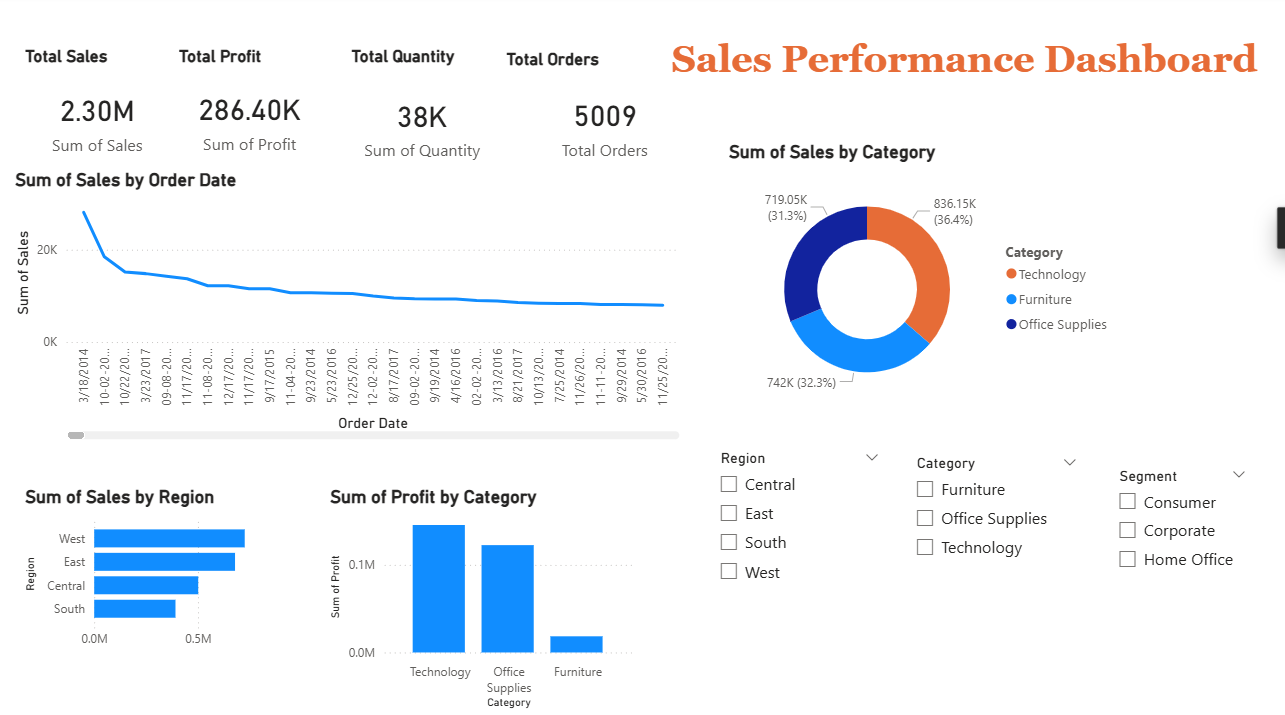

The dashboard page shown, as its layout file describes it:
{"tool":"powerbi","page":{"name":"Page 1","canvas":[1280,720],"ordinal":0},"visuals":[{"type":"card","title":"Total Sales","fields":{"Values":["Sum(Sample - Superstore.Sales)"]},"box":[20.6,50.8,153.7,127.6],"z":0},{"type":"card","title":"Total Orders","fields":{"Values":["Sample - Superstore.Total Orders"]},"box":[499.5,53.5,205.8,133.1],"z":1000},{"type":"lineChart","fields":{"Category":["Sample - Superstore.Order Date"],"Y":["Sum(Sample - Superstore.Sales)"]},"box":[11,172.9,671,274.4],"z":2000},{"type":"clusteredBarChart","fields":{"Category":["Sample - Superstore.Region"],"Y":["Sum(Sample - Superstore.Sales)"]},"box":[20.6,488.5,258,170.2],"z":3000},{"type":"donutChart","fields":{"Category":["Sample - Superstore.Category"],"Y":["Sum(Sample - Superstore.Sales)"]},"box":[721.8,145.5,395.2,274.4],"z":4000},{"type":"clusteredColumnChart","fields":{"Category":["Sample - Superstore.Category"],"Y":["Sum(Sample - Superstore.Profit)"]},"box":[325.2,488.5,311.5,226.4],"z":5000},{"type":"slicer","fields":{"Values":["Sample - Superstore.Region"]},"box":[705.3,447.3,182.5,155.1],"z":6000},{"type":"slicer","fields":{"Values":["Sample - Superstore.Category"]},"box":[900.2,452.8,183.9,149.6],"z":7000},{"type":"slicer","fields":{"Values":["Sample - Superstore.Segment"]},"box":[1101.9,465.2,150.9,124.9],"z":8000},{"type":"card","title":"Total Profit","fields":{"Values":["Sum(Sample - Superstore.Profit)"]},"box":[174.3,50.8,150.9,126.2],"z":9000},{"type":"card","title":"Total Quantity ","fields":{"Values":["Sum(Sample - Superstore.Quantity)"]},"box":[345.8,50.8,150.9,138.6],"z":10000},{"type":"textbox","box":[664.2,37,616.1,83.7],"z":11000}]}

Visuals, with their boxes in screenshot pixels (x1, y1, x2, y2), scaled from the page's 1280x720 canvas onto the 1285x715 screenshot:
"Total Sales" card: x1=21, y1=50, x2=175, y2=177
"Total Orders" card: x1=501, y1=53, x2=708, y2=185
lineChart - Sample - Superstore.Order Date x Sum(Sample - Superstore.Sales): x1=11, y1=172, x2=685, y2=444
clusteredBarChart - Sample - Superstore.Region x Sum(Sample - Superstore.Sales): x1=21, y1=485, x2=280, y2=654
donutChart - Sample - Superstore.Category x Sum(Sample - Superstore.Sales): x1=725, y1=144, x2=1121, y2=417
clusteredColumnChart - Sample - Superstore.Category x Sum(Sample - Superstore.Profit): x1=326, y1=485, x2=639, y2=710
slicer - Sample - Superstore.Region: x1=708, y1=444, x2=891, y2=598
slicer - Sample - Superstore.Category: x1=904, y1=450, x2=1088, y2=598
slicer - Sample - Superstore.Segment: x1=1106, y1=462, x2=1258, y2=586
"Total Profit" card: x1=175, y1=50, x2=326, y2=176
"Total Quantity " card: x1=347, y1=50, x2=499, y2=188
textbox: x1=667, y1=37, x2=1284, y2=120
